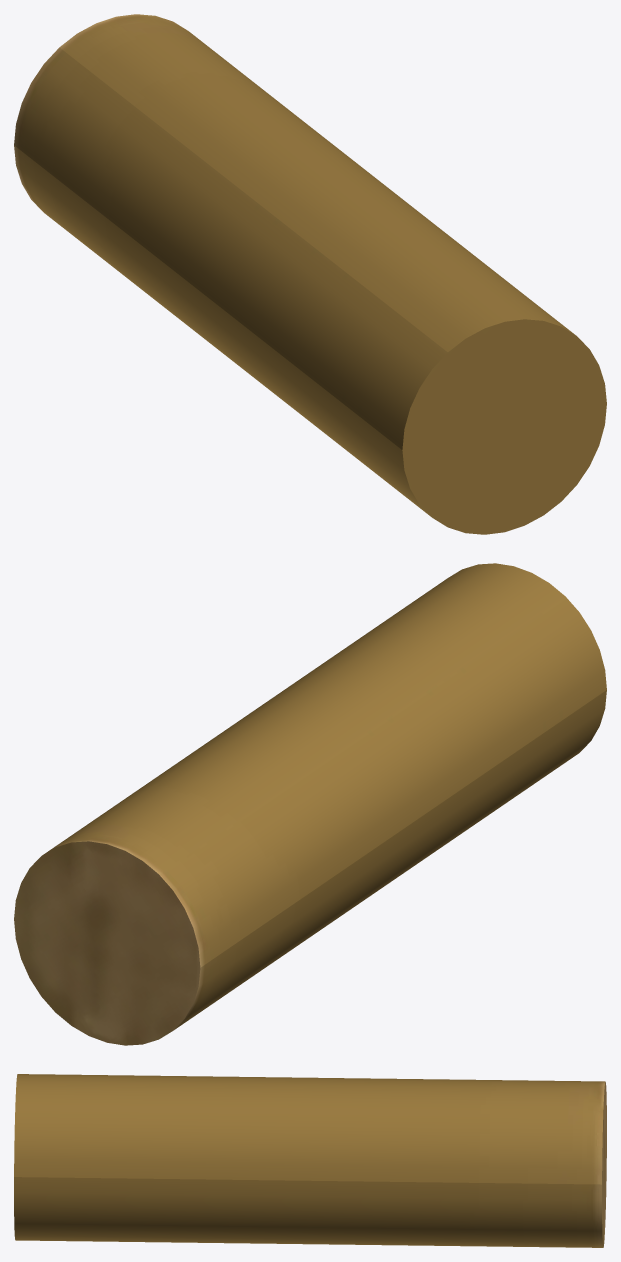
The model's file is antenna_left_inner__upper_tip.glb.
3 views of the same model, one above another, from view 1: azimuth 30°, elevation 25°; view 2: azimuth 150°, elevation 25°; view 3: azimuth 270°, elevation 25° (orthographic). The views are drawn at different scales.
Parts seen in each view (by area): view 1: geometry_0; view 2: geometry_0; view 3: geometry_0.
Part boxes in pixels (x1=…): geometry_0: x1=14, y1=14, x2=606, y2=534; geometry_0: x1=14, y1=563, x2=606, y2=1045; geometry_0: x1=14, y1=1074, x2=606, y2=1247.
Size of the model in its own units: 0.00752 by 0.0068 by 0.0242.
1 material, 1 textured.
